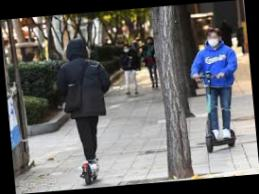nonhelmet: (53, 36, 121, 186), (185, 25, 246, 155)
